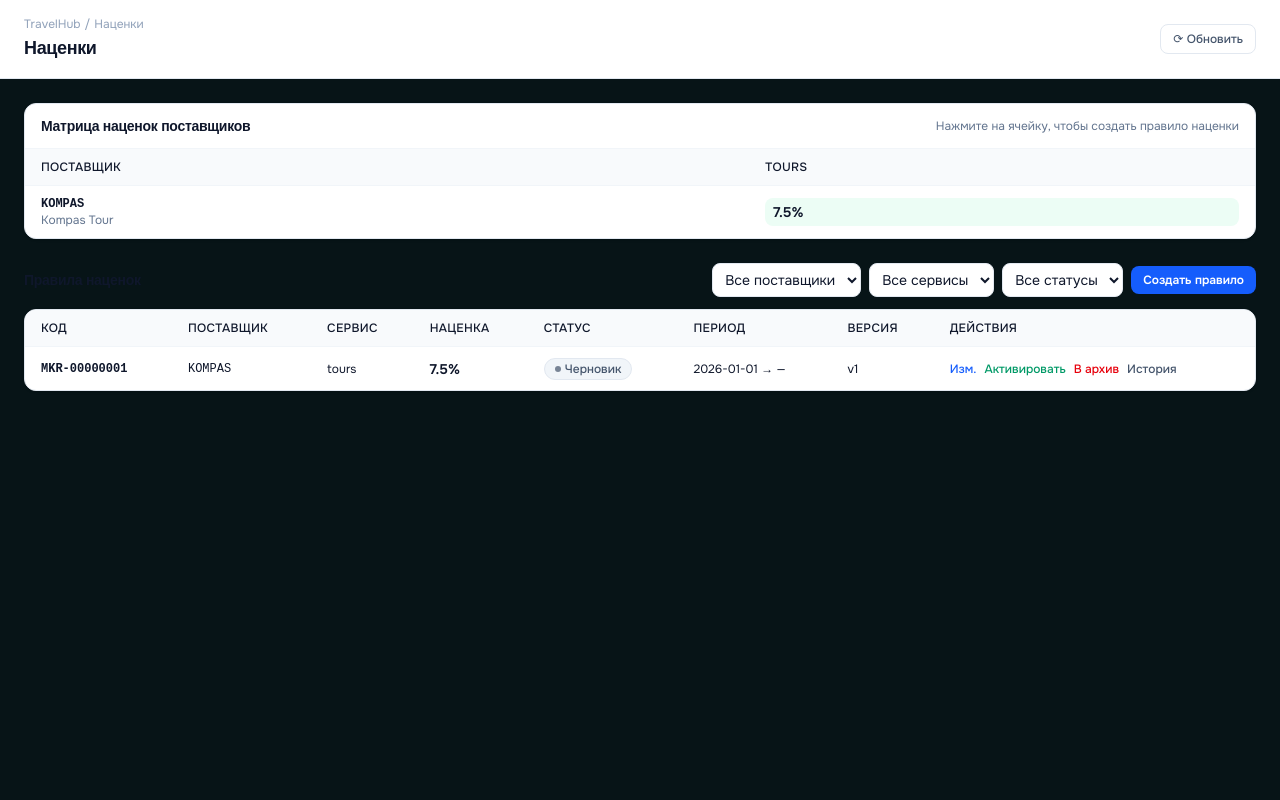
MarkupAdminPage — Supplier × Service matrix + rules (§4.1/§4.2) › history открывается в панели (MarkupRuleHistory audit)
Click the button "История". click: point(1152, 368)
box: [1127,360,1176,376]
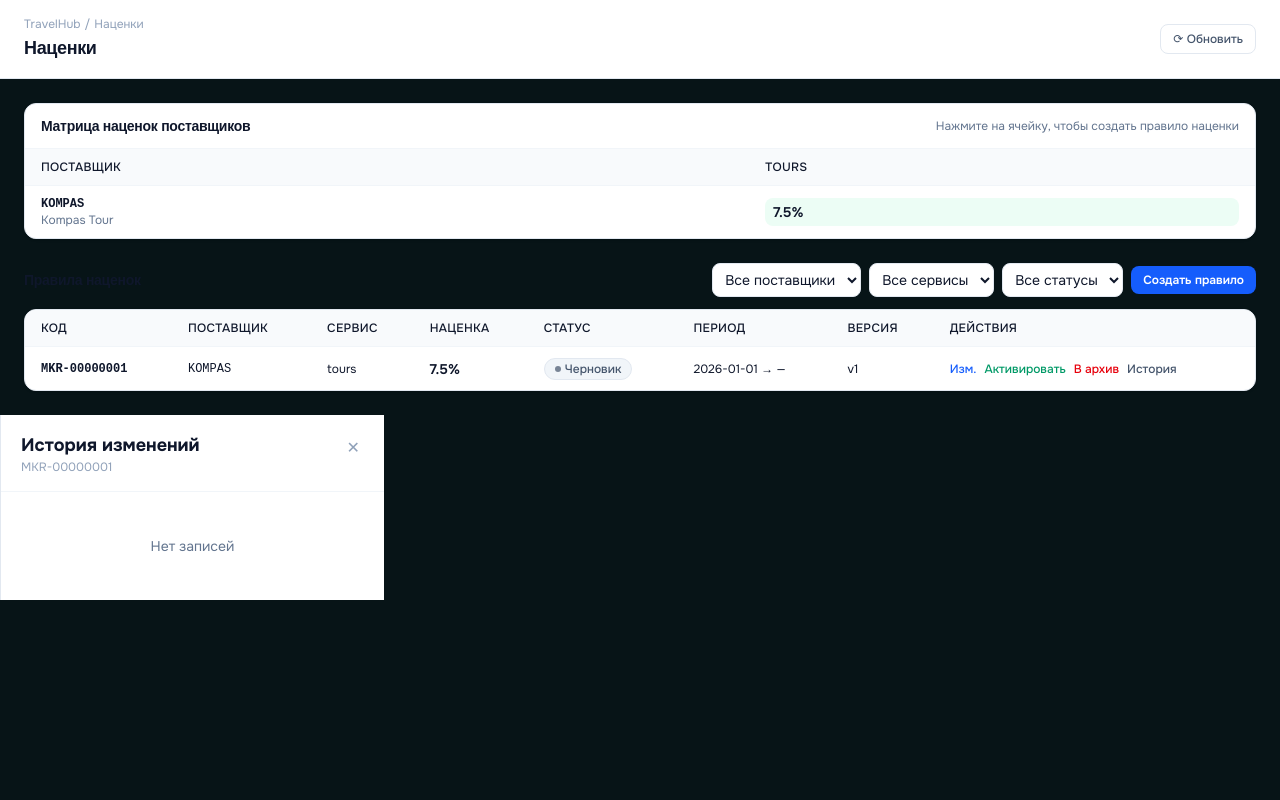
Expected: the text "История изменений" is shown, [21,431,200,459]
